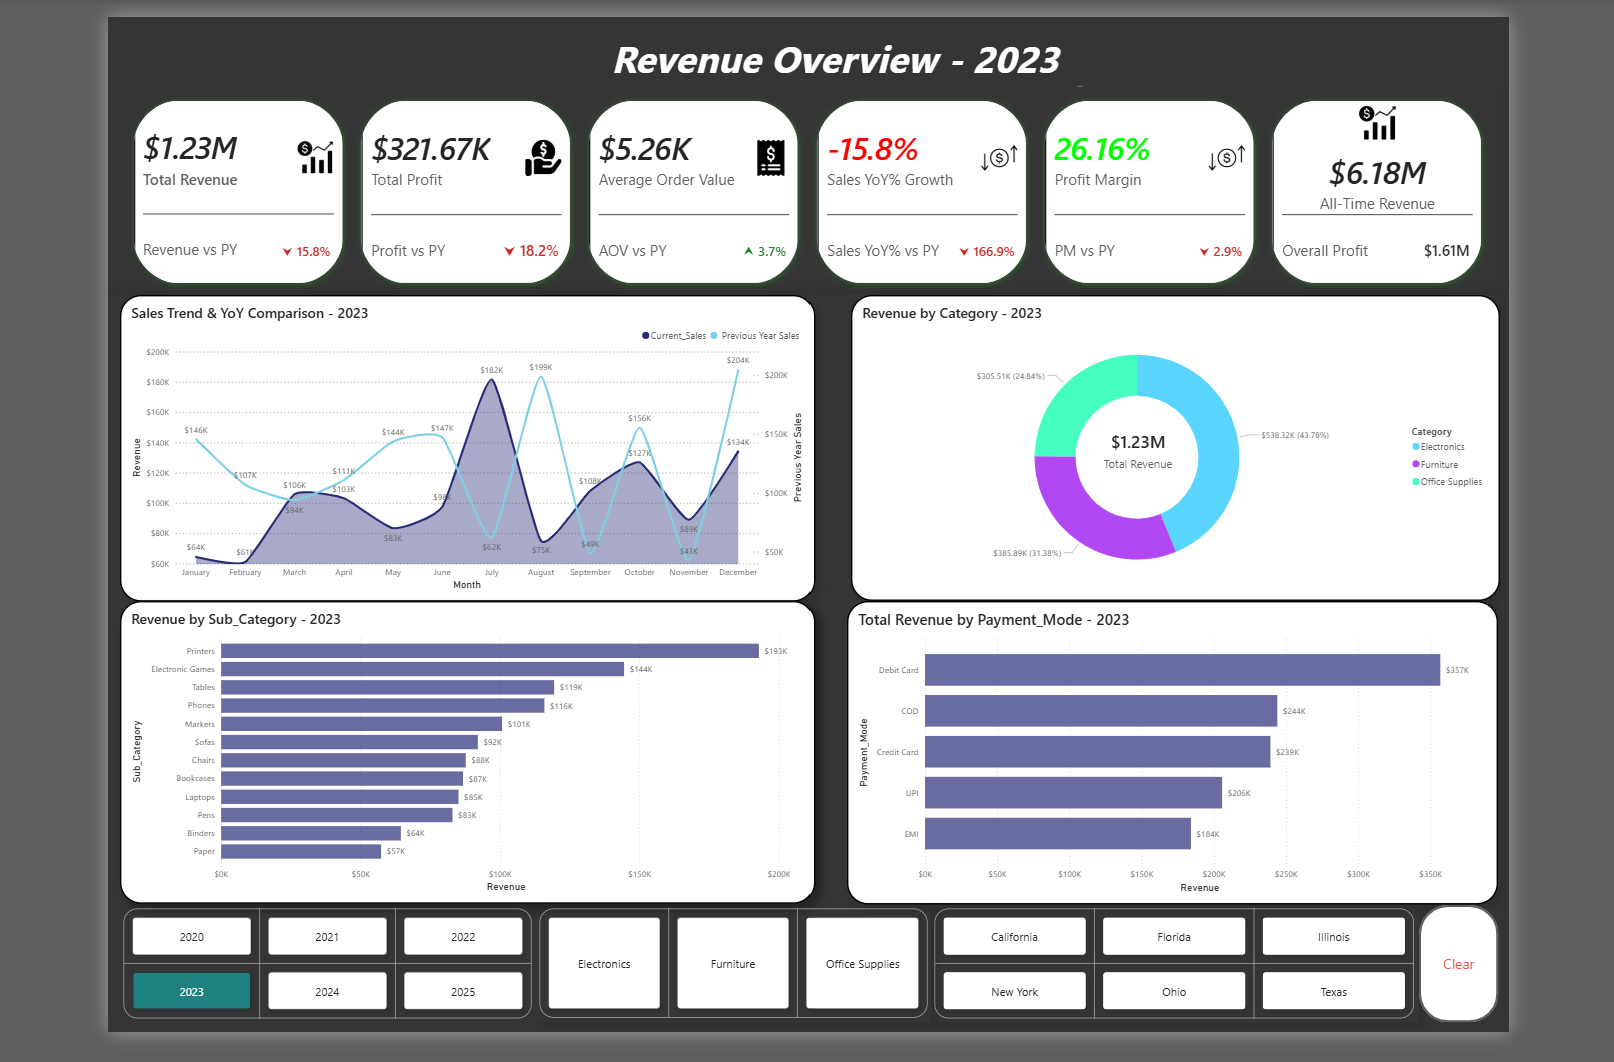

The page's visual inventory and layout, read from the dashboard file:
{"tool":"powerbi","page":{"name":"Revenue","canvas":[2000,1600],"ordinal":0},"visuals":[{"type":"cardVisual","fields":{"Data":["analytics Sales_Fact.Total Revenue","analytics Sales_Fact.Total Profit","analytics Sales_Fact.Average Order Value","analytics Sales_Fact.Sales YoY% Growth","analytics Sales_Fact.Profit Margin","measures (2).Total Revenue All Years"]},"box":[0,102.7,2000,294.6],"z":0},{"type":"lineChart","fields":{"Category":["Date.Month"],"Y":["Sum(analytics Sales_Fact.Amount)"],"Y2":["analytics Sales_Fact.Sales Last Year"]},"box":[16.2,397.3,991.9,437.8],"z":1000},{"type":"barChart","fields":{"Category":["analytics Product_Dim.Sub_Category"],"Y":["analytics Sales_Fact.Total Revenue"]},"box":[16.2,835.1,991.9,432.4],"z":2000},{"type":"donutChart","fields":{"Category":["analytics Product_Dim.Category"],"Y":["analytics Sales_Fact.Total Revenue"]},"box":[1059.5,397.3,927,437],"z":3000},{"type":"barChart","fields":{"Category":["analytics Product_Dim.Payment_Mode"],"Y":["analytics Sales_Fact.Total Revenue"]},"box":[1055.1,834.8,930.2,433.3],"z":4000},{"type":"advancedSlicerVisual","fields":{"Values":["Date.Year"]},"box":[16.2,1267.6,594.6,167.6],"z":5000},{"type":"advancedSlicerVisual","fields":{"Values":["analytics Product_Dim.Category"]},"box":[612,1268.1,563,166.5],"z":6000},{"type":"advancedSlicerVisual","fields":{"Values":["analytics Customer_Dim.State"]},"box":[1173,1267.6,697.3,167.6],"z":7000},{"type":"card","fields":{"Values":["analytics Sales_Fact.Total Revenue"]},"box":[1397.3,559.5,145.9,116.2],"z":8000},{"type":"textbox","box":[681.1,21.6,716.2,81.1],"z":9000},{"type":"actionButton","box":[1870.3,1267.6,113.5,167.6],"z":10000}]}

Visuals, with their boxes on the page's 2000x1600 design canvas (x1, y1, x2, y2). These are canvas units, not pixel positions in the 1614x1062 screenshot, which may show the page scaled, cropped or inside an application window:
cardVisual - analytics Sales_Fact.Total Revenue x analytics Sales_Fact.Total Profit: <bbox>0, 103, 2000, 397</bbox>
lineChart - Date.Month x Sum(analytics Sales_Fact.Amount): <bbox>16, 397, 1008, 835</bbox>
barChart - analytics Product_Dim.Sub_Category x analytics Sales_Fact.Total Revenue: <bbox>16, 835, 1008, 1268</bbox>
donutChart - analytics Product_Dim.Category x analytics Sales_Fact.Total Revenue: <bbox>1060, 397, 1986, 834</bbox>
barChart - analytics Product_Dim.Payment_Mode x analytics Sales_Fact.Total Revenue: <bbox>1055, 835, 1985, 1268</bbox>
advancedSlicerVisual - Date.Year: <bbox>16, 1268, 611, 1435</bbox>
advancedSlicerVisual - analytics Product_Dim.Category: <bbox>612, 1268, 1175, 1435</bbox>
advancedSlicerVisual - analytics Customer_Dim.State: <bbox>1173, 1268, 1870, 1435</bbox>
card - analytics Sales_Fact.Total Revenue: <bbox>1397, 560, 1543, 676</bbox>
textbox: <bbox>681, 22, 1397, 103</bbox>
actionButton: <bbox>1870, 1268, 1984, 1435</bbox>
